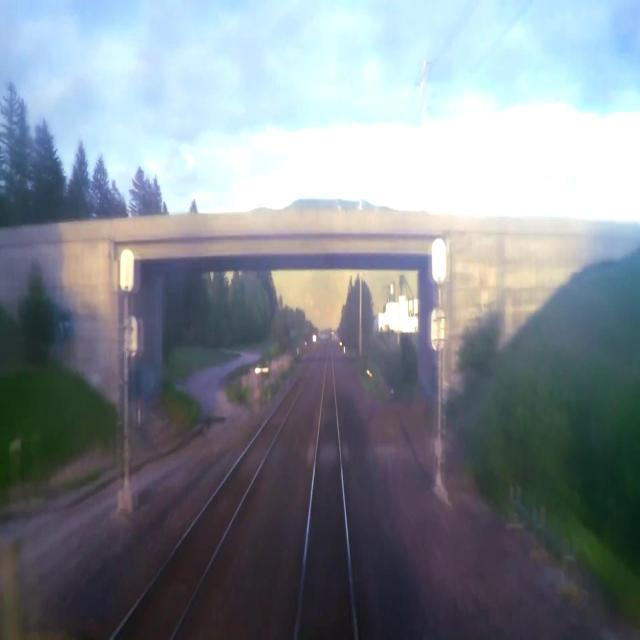rail-track: (116, 360, 313, 639), (298, 348, 353, 639)
